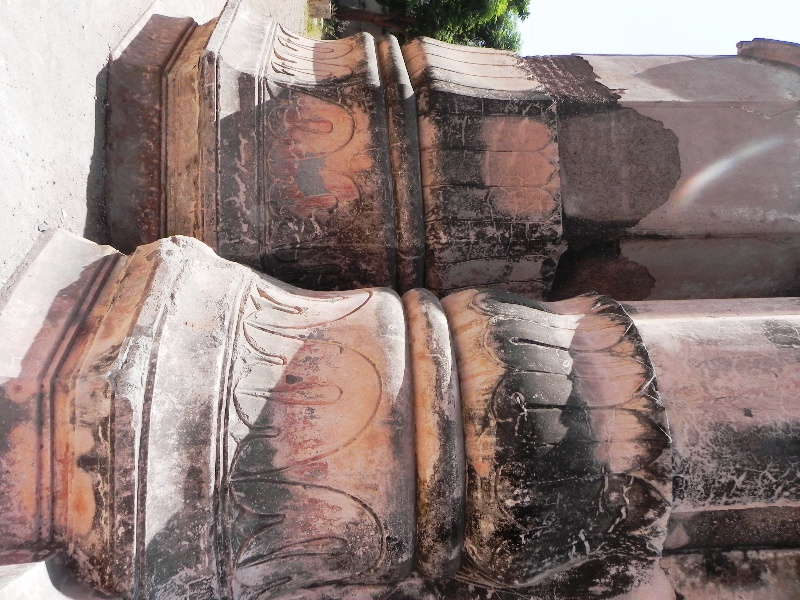Spalling: (292, 156, 332, 197)
